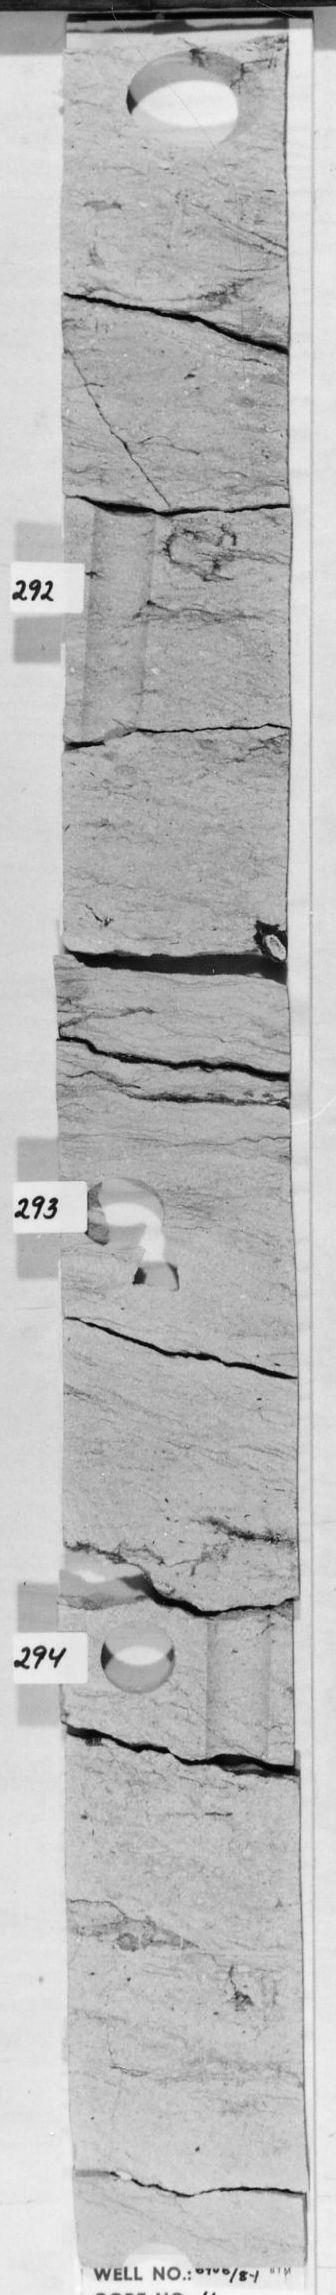hplug: (61, 1535, 167, 1614), (96, 1620, 191, 1707), (76, 1174, 172, 1248), (110, 2229, 200, 2272)
scal: (118, 42, 267, 152)
vplug: (85, 496, 159, 746), (200, 1598, 278, 1778), (129, 1246, 194, 1298)
